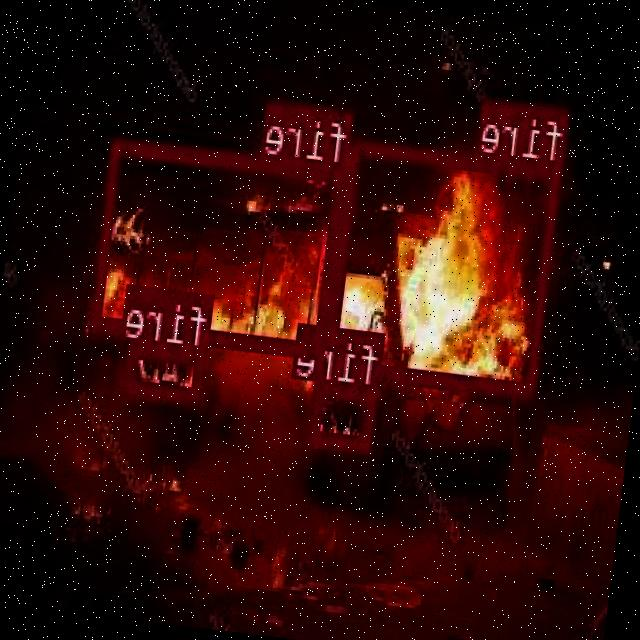fire: (325, 136, 564, 396), (92, 138, 348, 355), (126, 338, 208, 401), (310, 379, 380, 449)
